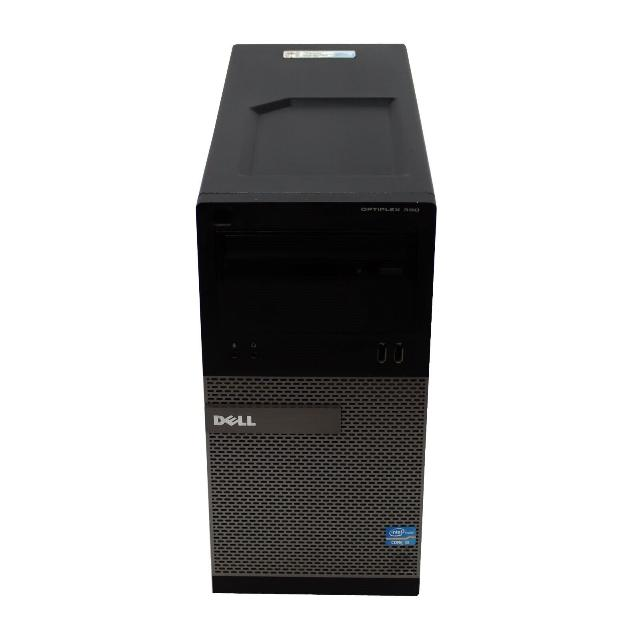Desktop-PC: (186, 40, 442, 606)
